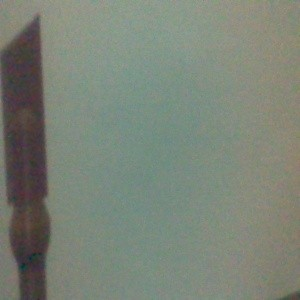cutter: (1, 11, 52, 300)
